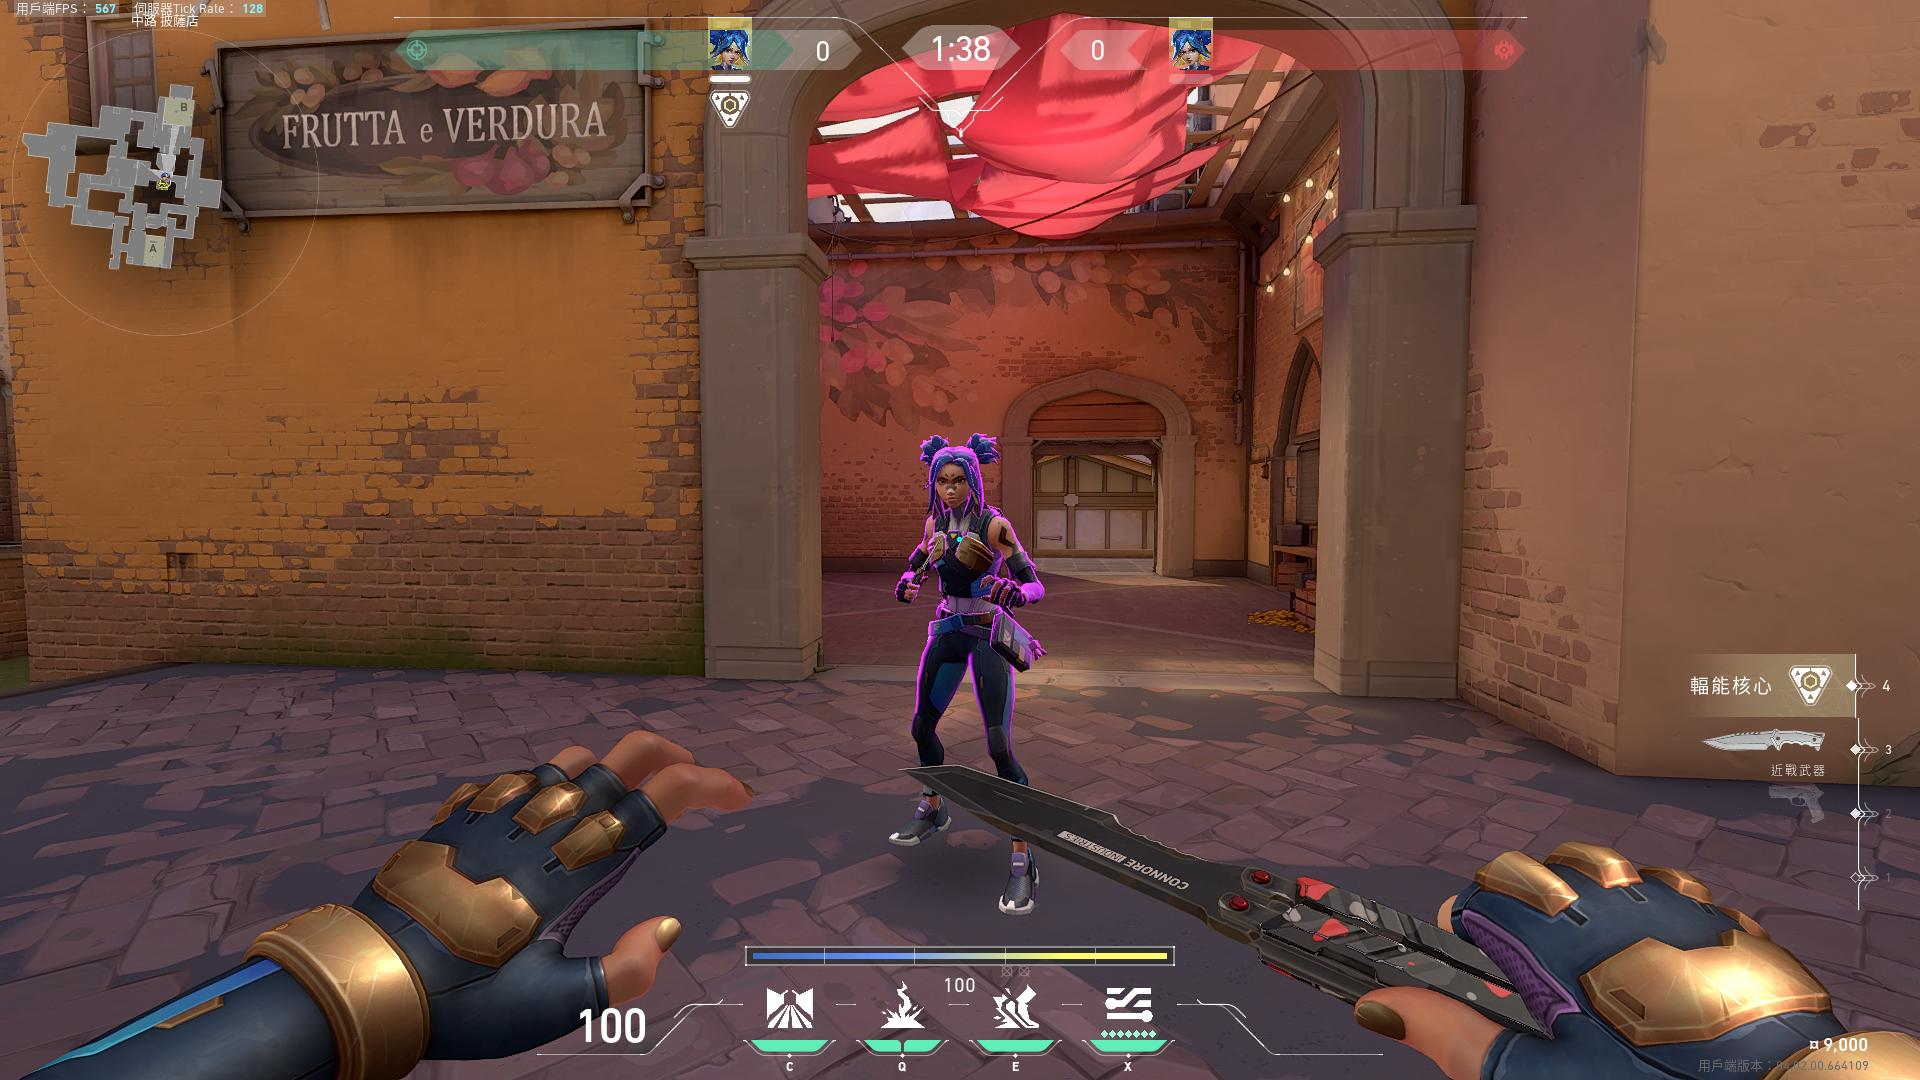enemyBody: (932, 512, 1005, 587)
enemyHead: (939, 459, 981, 512)
